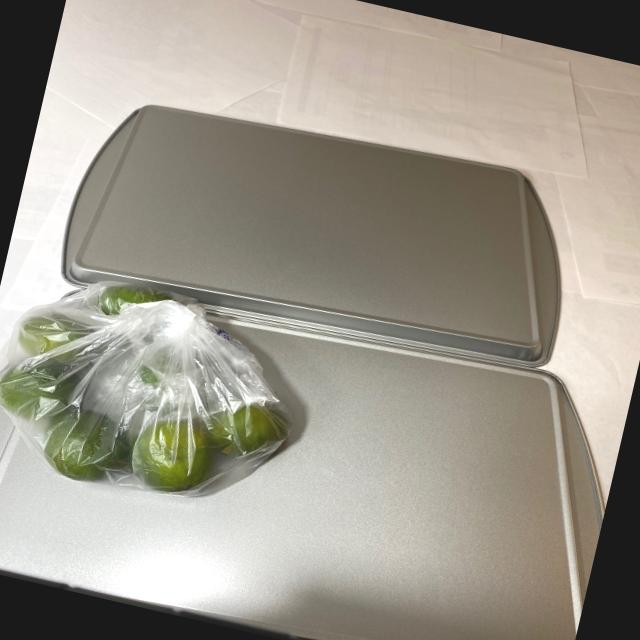lemon: (0, 253, 310, 524)
